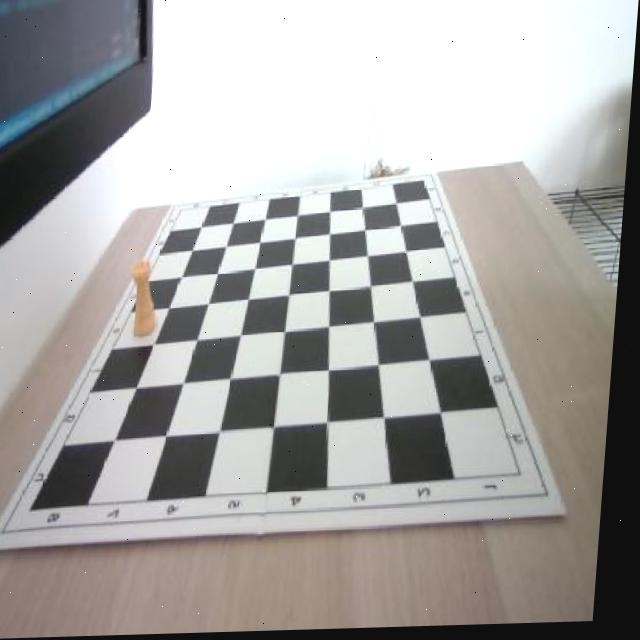white-queen: (133, 259, 166, 338)
